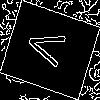V: (24, 25, 75, 72)
